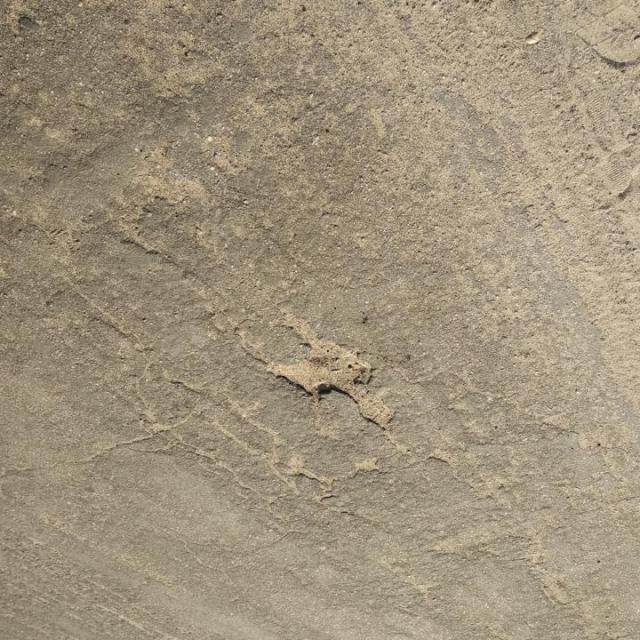pothole: (261, 339, 378, 401), (356, 400, 398, 431)
